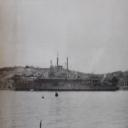Portanaves: (10, 53, 119, 93)
